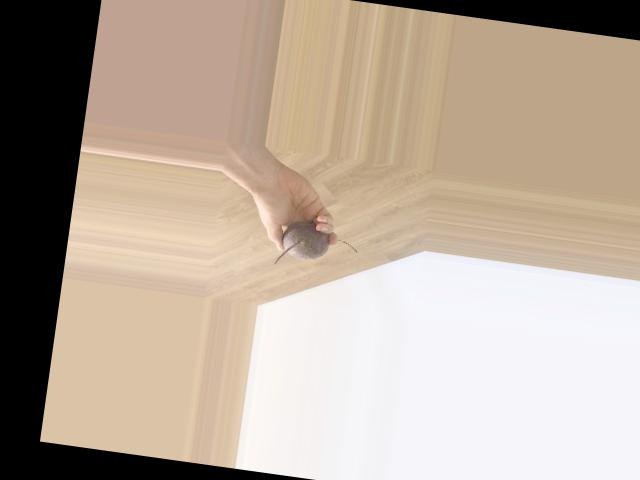beet: (275, 218, 361, 274)
